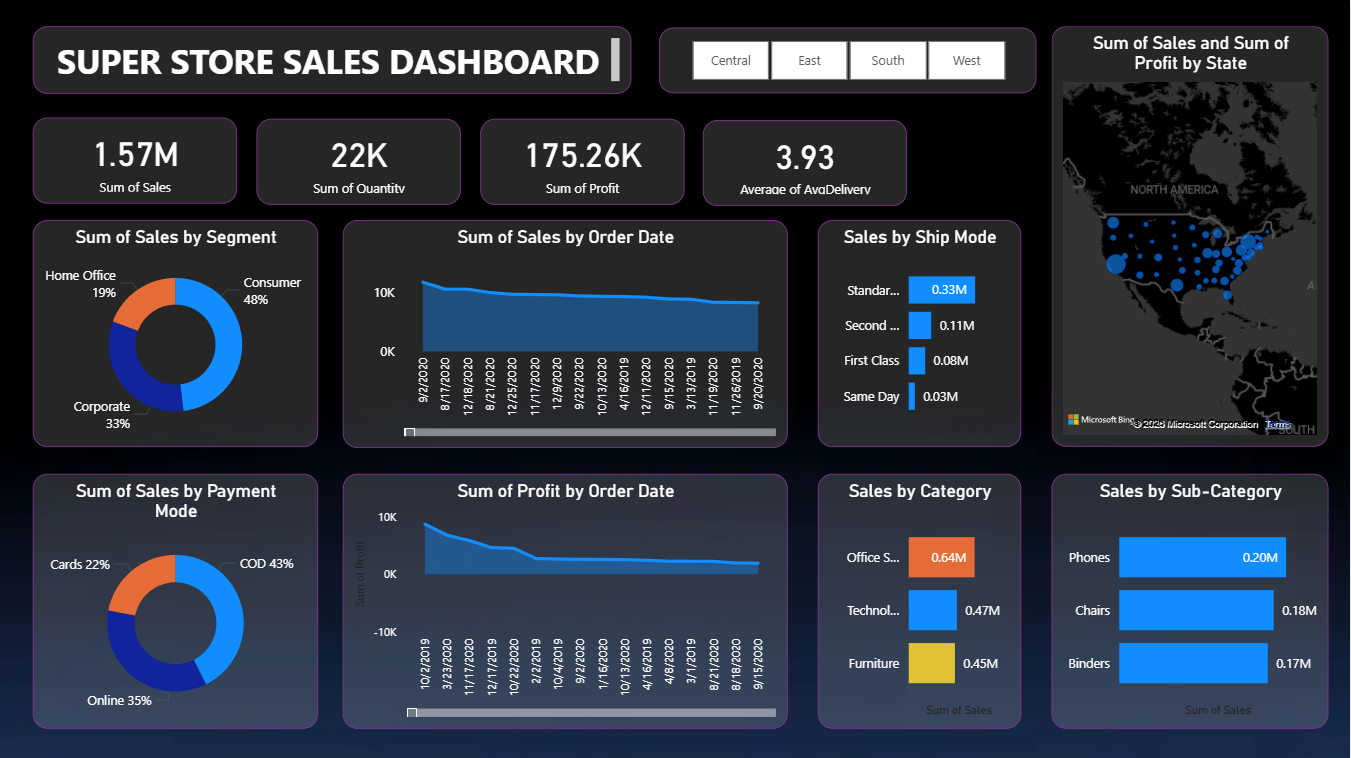

What the dashboard file says about the page in this screenshot:
{"tool":"powerbi","page":{"name":"Page 1","canvas":[1280,720],"ordinal":0},"visuals":[{"type":"clusteredBarChart","title":"Sales by Category","fields":{"Category":["SuperStore Sales DataSet xlsx - Sheet1.Category"],"Y":["Sum(SuperStore Sales DataSet xlsx - Sheet1.Sales)"]},"box":[776.2,448.8,192.5,241.2],"z":0},{"type":"clusteredBarChart","title":"Sales by Sub-Category","fields":{"Category":["SuperStore Sales DataSet xlsx - Sheet1.Sub-Category"],"Y":["Sum(SuperStore Sales DataSet xlsx - Sheet1.Sales)"]},"box":[997.5,448.8,262.5,241.2],"z":1000},{"type":"clusteredBarChart","title":"Sales by Ship Mode","fields":{"Category":["SuperStore Sales DataSet xlsx - Sheet1.Ship Mode"],"Y":["Sum(SuperStore Sales DataSet xlsx - Sheet1.Sales)"]},"box":[776.2,208.8,192.5,215],"z":2000},{"type":"stackedAreaChart","fields":{"Category":["SuperStore Sales DataSet xlsx - Sheet1.Order Date"],"Y":["Sum(SuperStore Sales DataSet xlsx - Sheet1.Sales)"]},"box":[326.2,208.8,421.2,216.2],"z":3000},{"type":"stackedAreaChart","title":"Sum of Profit by Order Date","fields":{"Category":["SuperStore Sales DataSet xlsx - Sheet1.Order Date"],"Y":["Sum(SuperStore Sales DataSet xlsx - Sheet1.Profit)"]},"box":[326.2,448.8,421.2,241.2],"z":4000},{"type":"map","fields":{"Category":["SuperStore Sales DataSet xlsx - Sheet1.State"],"Size":["Sum(SuperStore Sales DataSet xlsx - Sheet1.Sales)"]},"box":[997.5,25,262.5,398.8],"z":5000},{"type":"donutChart","fields":{"Category":["SuperStore Sales DataSet xlsx - Sheet1.Segment"],"Y":["Sum(SuperStore Sales DataSet xlsx - Sheet1.Sales)"]},"box":[32.5,208.8,270,215],"z":6000},{"type":"donutChart","fields":{"Category":["SuperStore Sales DataSet xlsx - Sheet1.Payment Mode"],"Y":["Sum(SuperStore Sales DataSet xlsx - Sheet1.Sales)"]},"box":[32.5,448.8,270,241.2],"z":7000},{"type":"slicer","fields":{"Values":["SuperStore Sales DataSet xlsx - Sheet1.Region"]},"box":[625,26.2,357.5,62.5],"z":8000},{"type":"textbox","box":[32.5,25,567.5,63.8],"z":9000},{"type":"card","fields":{"Values":["Sum(SuperStore Sales DataSet xlsx - Sheet1.Sales)"]},"box":[32.5,111.2,193.8,81.2],"z":10000},{"type":"card","fields":{"Values":["Sum(SuperStore Sales DataSet xlsx - Sheet1.Quantity)"]},"box":[243.8,112.5,193.8,81.2],"z":11000},{"type":"card","fields":{"Values":["Sum(SuperStore Sales DataSet xlsx - Sheet1.Profit)"]},"box":[456.2,112.5,193.8,81.2],"z":12000},{"type":"card","fields":{"Values":["Avg(SuperStore Sales DataSet xlsx - Sheet1.AvgDelivery)"]},"box":[666.2,113.8,193.8,81.2],"z":13000}]}

Visuals, with their boxes in screenshot pixels (x1, y1, x2, y2), scaled from the page's 1280x720 canvas onto the 1351x758 screenshot:
"Sales by Category" clusteredBarChart: rect(819, 472, 1022, 726)
"Sales by Sub-Category" clusteredBarChart: rect(1053, 472, 1330, 726)
"Sales by Ship Mode" clusteredBarChart: rect(819, 220, 1022, 446)
stackedAreaChart - SuperStore Sales DataSet xlsx - Sheet1.Order Date x Sum(SuperStore Sales DataSet xlsx - Sheet1.Sales): rect(344, 220, 789, 447)
"Sum of Profit by Order Date" stackedAreaChart: rect(344, 472, 789, 726)
map - SuperStore Sales DataSet xlsx - Sheet1.State x Sum(SuperStore Sales DataSet xlsx - Sheet1.Sales): rect(1053, 26, 1330, 446)
donutChart - SuperStore Sales DataSet xlsx - Sheet1.Segment x Sum(SuperStore Sales DataSet xlsx - Sheet1.Sales): rect(34, 220, 319, 446)
donutChart - SuperStore Sales DataSet xlsx - Sheet1.Payment Mode x Sum(SuperStore Sales DataSet xlsx - Sheet1.Sales): rect(34, 472, 319, 726)
slicer - SuperStore Sales DataSet xlsx - Sheet1.Region: rect(660, 28, 1037, 93)
textbox: rect(34, 26, 633, 93)
card - Sum(SuperStore Sales DataSet xlsx - Sheet1.Sales): rect(34, 117, 239, 203)
card - Sum(SuperStore Sales DataSet xlsx - Sheet1.Quantity): rect(257, 118, 462, 204)
card - Sum(SuperStore Sales DataSet xlsx - Sheet1.Profit): rect(482, 118, 686, 204)
card - Avg(SuperStore Sales DataSet xlsx - Sheet1.AvgDelivery): rect(703, 120, 908, 205)
